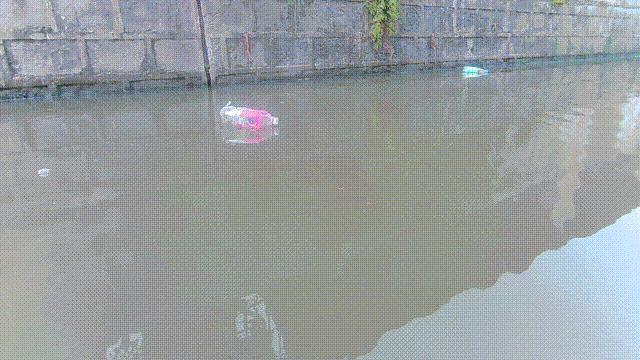Plastic: (217, 101, 282, 133), (459, 65, 490, 79)
